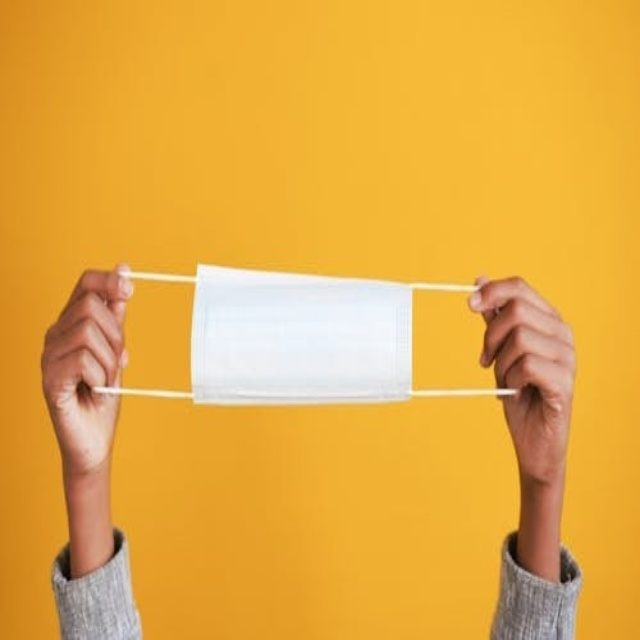Sin_guantes: (468, 274, 578, 486), (42, 262, 134, 479)
